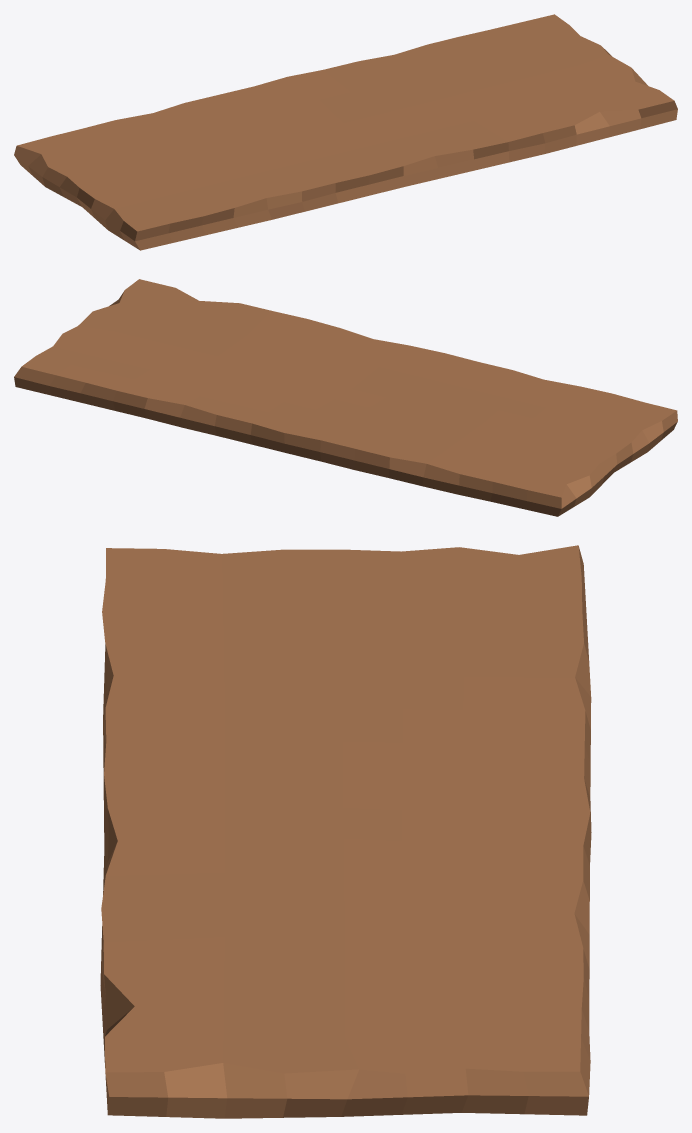
Rendered from moneyshelf.glb.
3 views of the same model, one above another, from view 1: azimuth 30°, elevation 25°; view 2: azimuth 150°, elevation 25°; view 3: azimuth 270°, elevation 25° (orthographic). The views are drawn at different scales.
Visible parts, largest first — view 1: MoneyShelf; view 2: MoneyShelf; view 3: MoneyShelf.
Part boxes in pixels (x1,y1,x2,y2): MoneyShelf: (14, 14, 677, 250); MoneyShelf: (14, 279, 677, 516); MoneyShelf: (100, 545, 591, 1118).
Bounding box in the file's own units: 11.04 × 0.4058 × 4.28.
